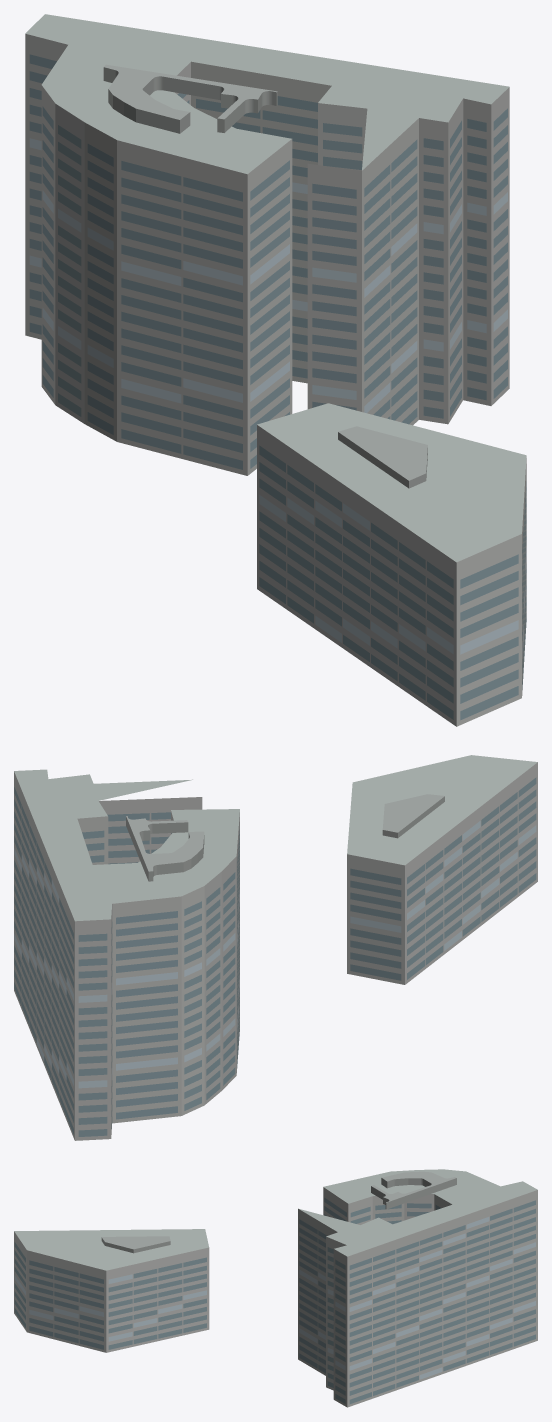
The model's file is apt-a10027071.glb.
The picture shows the model from 3 angles, top to bottom: view 1: azimuth 30°, elevation 25°; view 2: azimuth 150°, elevation 25°; view 3: azimuth 270°, elevation 25°; orthographic projection. The views are drawn at different scales.
Visible parts, largest first — view 1: apt-a10027071; view 2: apt-a10027071; view 3: apt-a10027071.
Part boxes in pixels (box(x1,y1,x2,y2)): apt-a10027071: box(25, 14, 526, 726); apt-a10027071: box(14, 755, 537, 1140); apt-a10027071: box(14, 1169, 537, 1407).
Bounding box in the file's own units: 72.09 × 55 × 166.
